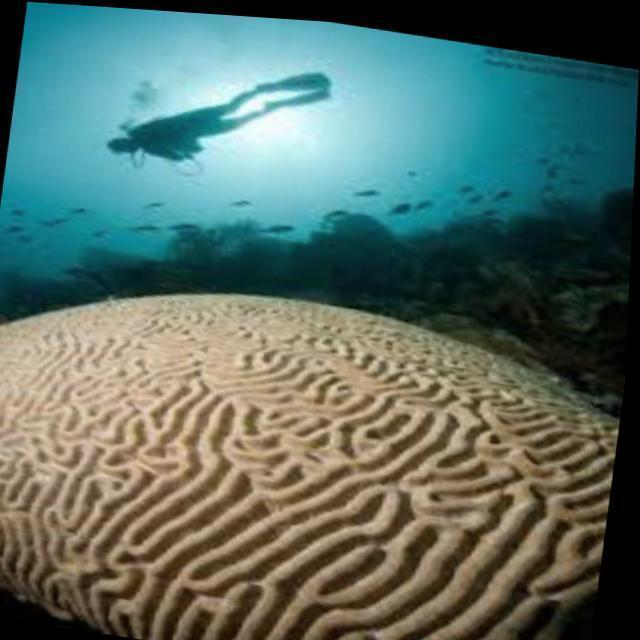Healthy Coral: (0, 249, 609, 640)
